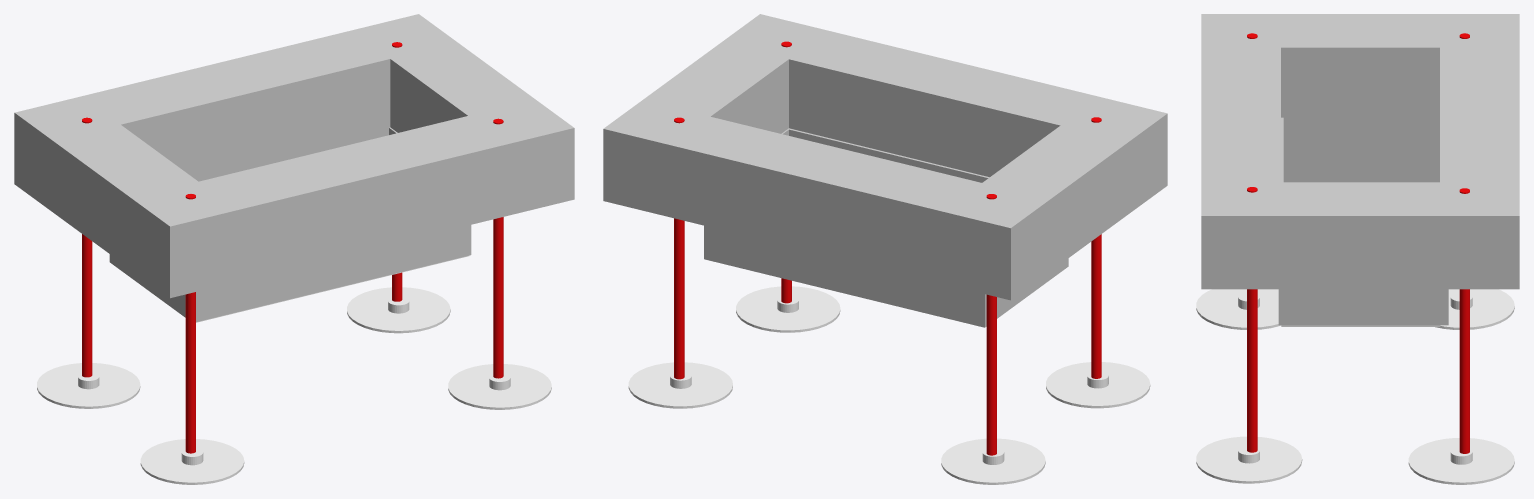
The model's file is bin_4_dropping_task.dae.
3 views of the same model, side by side, from view 1: azimuth 30°, elevation 25°; view 2: azimuth 150°, elevation 25°; view 3: azimuth 270°, elevation 25° (orthographic). The views are drawn at different scales.
Visible parts, largest first — view 1: Cylinder.002; view 2: Cylinder.002; view 3: Cylinder.002.
Boxes of the visible parts, x1,y1,x2,y2 form: Cylinder.002: [14, 14, 574, 484]; Cylinder.002: [603, 14, 1167, 484]; Cylinder.002: [1196, 14, 1519, 484].
Bounding box in the file's own units: 0.9 × 0.6094 × 0.5656.
